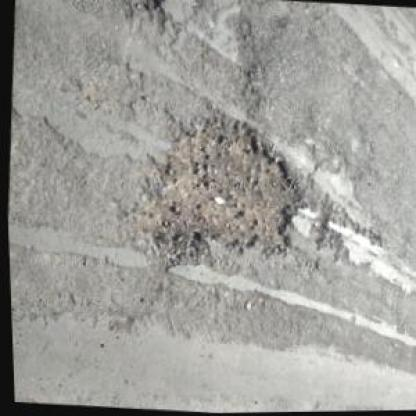pothole: (125, 108, 308, 276)
